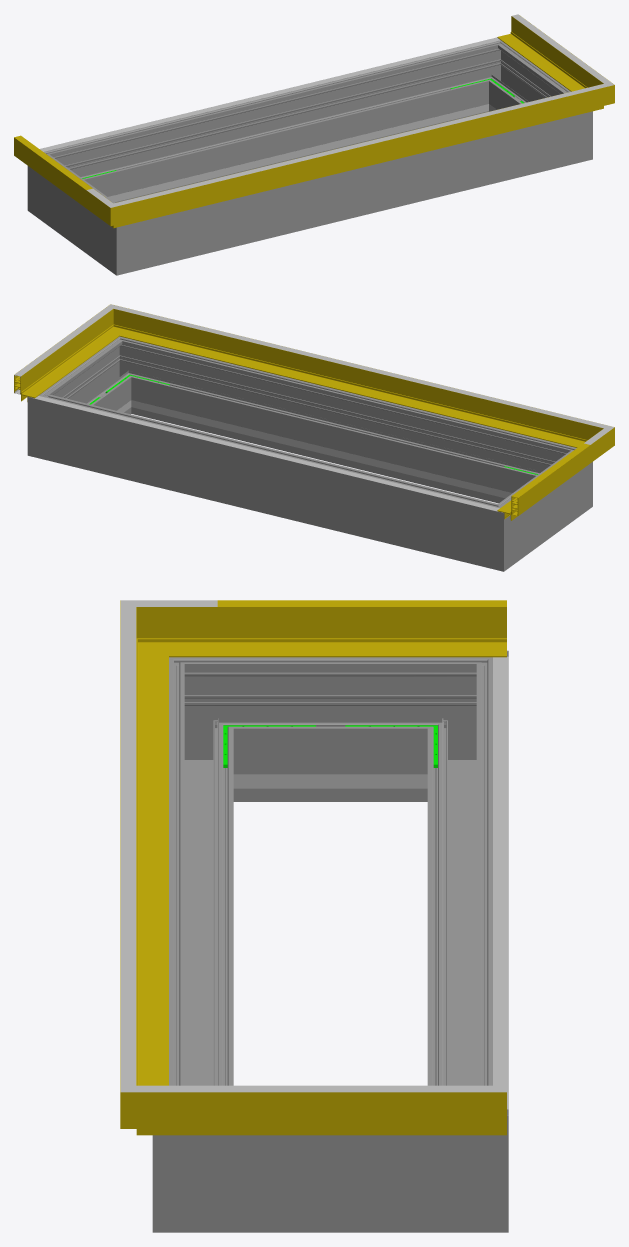
3 views of the same model, one above another, from view 1: azimuth 30°, elevation 25°; view 2: azimuth 150°, elevation 25°; view 3: azimuth 270°, elevation 25° (orthographic). The views are drawn at different scales.
Parts seen in each view (by area): view 1: 3DGeom-276, 3DGeom-298, 3DGeom-56, 3DGeom-270, 3DGeom-244, 3DGeom-58, 3DGeom-284, 3DGeom-290, 3DGeom-220, 3DGeom-268, 3DGeom-66, 3DGeom-297 (+6 smaller); view 2: 3DGeom-298, 3DGeom-276, 3DGeom-56, 3DGeom-278, 3DGeom-284, 3DGeom-58, 3DGeom-239, 3DGeom-290, 3DGeom-297, 3DGeom-220, 3DGeom-268, 3DGeom-66 (+7 smaller); view 3: 3DGeom-276, 3DGeom-298, 3DGeom-268, 3DGeom-297, 3DGeom-50, 3DGeom-56, 3DGeom-58, 3DGeom-284, 3DGeom-290, 3DGeom-278, 3DGeom-270, 3DGeom-66 (+9 smaller).
Boxes of the visible parts, <box> form: 3DGeom-276: <box>73,49,481,202</box>; 3DGeom-298: <box>158,121,550,265</box>; 3DGeom-56: <box>148,95,572,219</box>; 3DGeom-270: <box>92,196,158,275</box>; 3DGeom-244: <box>123,114,448,199</box>; 3DGeom-58: <box>497,16,586,90</box>; 3DGeom-284: <box>466,40,521,113</box>; 3DGeom-290: <box>551,85,592,169</box>; 3DGeom-220: <box>40,37,500,151</box>; 3DGeom-268: <box>52,166,105,257</box>; 3DGeom-66: <box>149,92,572,197</box>; 3DGeom-297: <box>493,55,561,109</box>; 3DGeom-298: <box>138,345,546,503</box>; 3DGeom-276: <box>69,401,469,561</box>; 3DGeom-56: <box>140,317,568,443</box>; 3DGeom-278: <box>462,492,528,571</box>; 3DGeom-284: <box>27,381,77,465</box>; 3DGeom-58: <box>14,324,107,401</box>; 3DGeom-239: <box>172,410,496,496</box>; 3DGeom-290: <box>99,336,154,415</box>; 3DGeom-297: <box>59,351,127,413</box>; 3DGeom-220: <box>34,396,499,511</box>; 3DGeom-268: <box>515,462,568,553</box>; 3DGeom-66: <box>149,314,571,419</box>; 3DGeom-276: <box>427,691,508,1085</box>; 3DGeom-298: <box>169,691,233,1085</box>; 3DGeom-268: <box>249,657,411,801</box>; 3DGeom-297: <box>249,1135,411,1232</box>; 3DGeom-50: <box>217,607,506,657</box>; 3DGeom-56: <box>120,641,168,1085</box>; 3DGeom-58: <box>217,1092,506,1135</box>; 3DGeom-284: <box>411,1074,508,1232</box>; 3DGeom-290: <box>152,1074,249,1232</box>; 3DGeom-278: <box>411,650,508,801</box>; 3DGeom-270: <box>169,657,249,801</box>; 3DGeom-66: <box>120,641,136,1051</box>.
Bounding box in the file's own units: 1.83 × 0.2669 × 0.6096.
